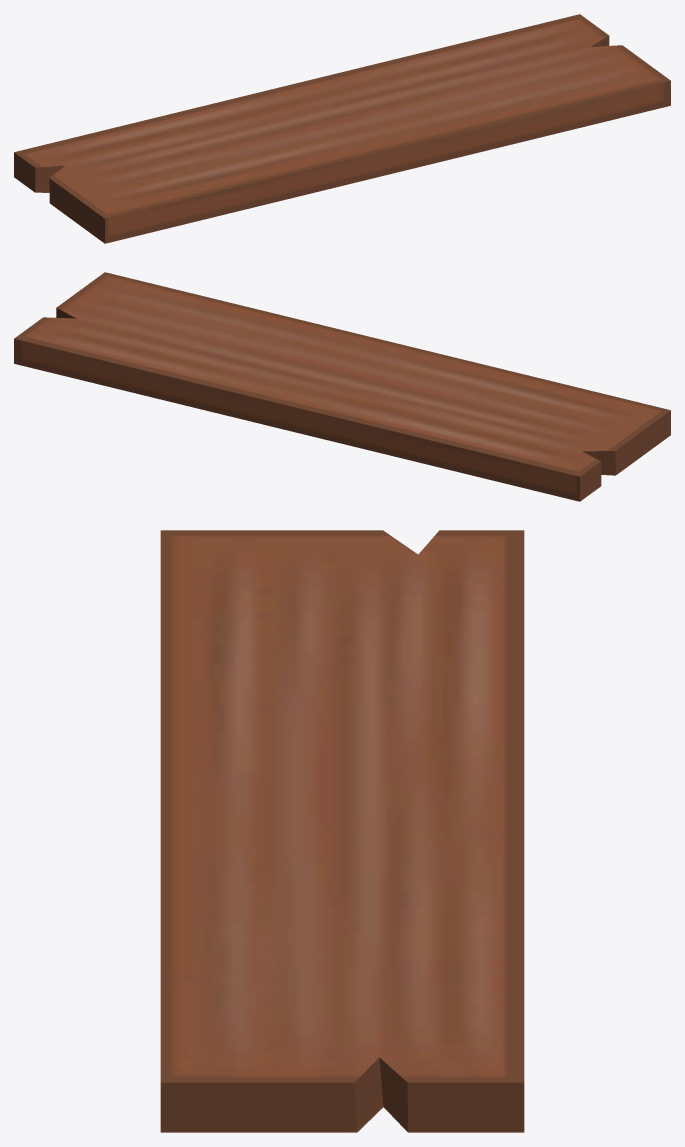
File: HardWoodPlank.fbx
3 renders of one model, top to bottom at view 1: azimuth 30°, elevation 25°; view 2: azimuth 150°, elevation 25°; view 3: azimuth 270°, elevation 25°, orthographic. The views are drawn at different scales.
Parts seen in each view (by area): view 1: WoodPlank; view 2: WoodPlank; view 3: WoodPlank.
Boxes of the visible parts, x1=… form: WoodPlank: x1=14, y1=14, x2=670, y2=243; WoodPlank: x1=14, y1=272, x2=670, y2=501; WoodPlank: x1=160, y1=530, x2=524, y2=1132.
Bounding box in the file's own units: 1.67 × 0.0706 × 0.4654.
Materials: 1 (1 with a texture image).
